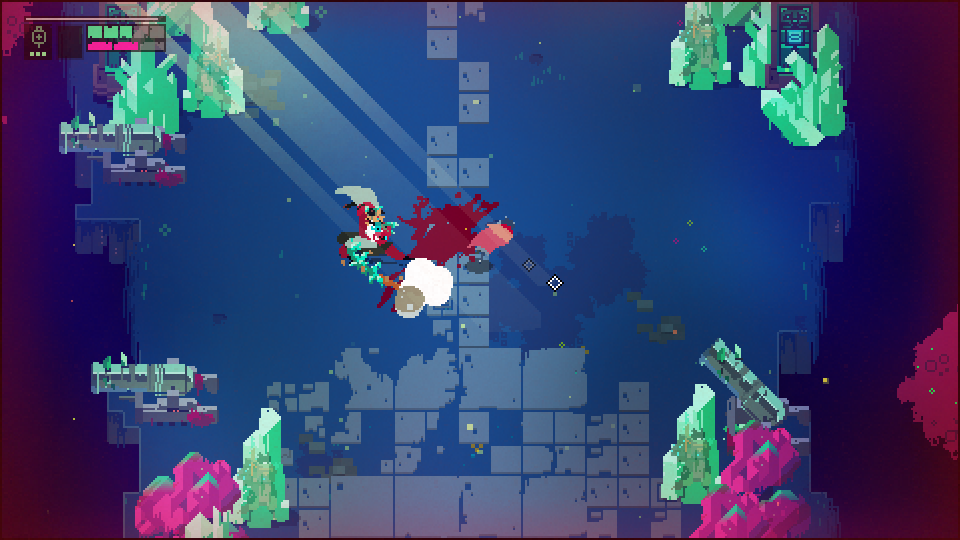hanged_man: (332, 184, 418, 295)
player: (470, 217, 520, 262)
